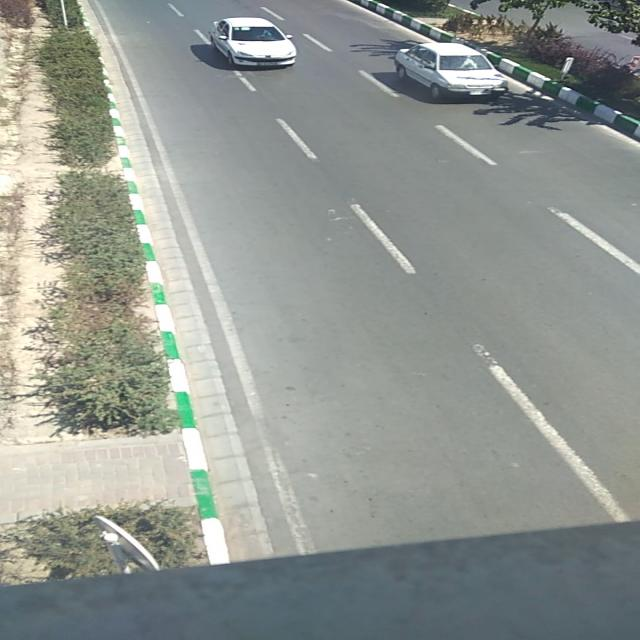car: (393, 42, 510, 100), (207, 18, 296, 66)
